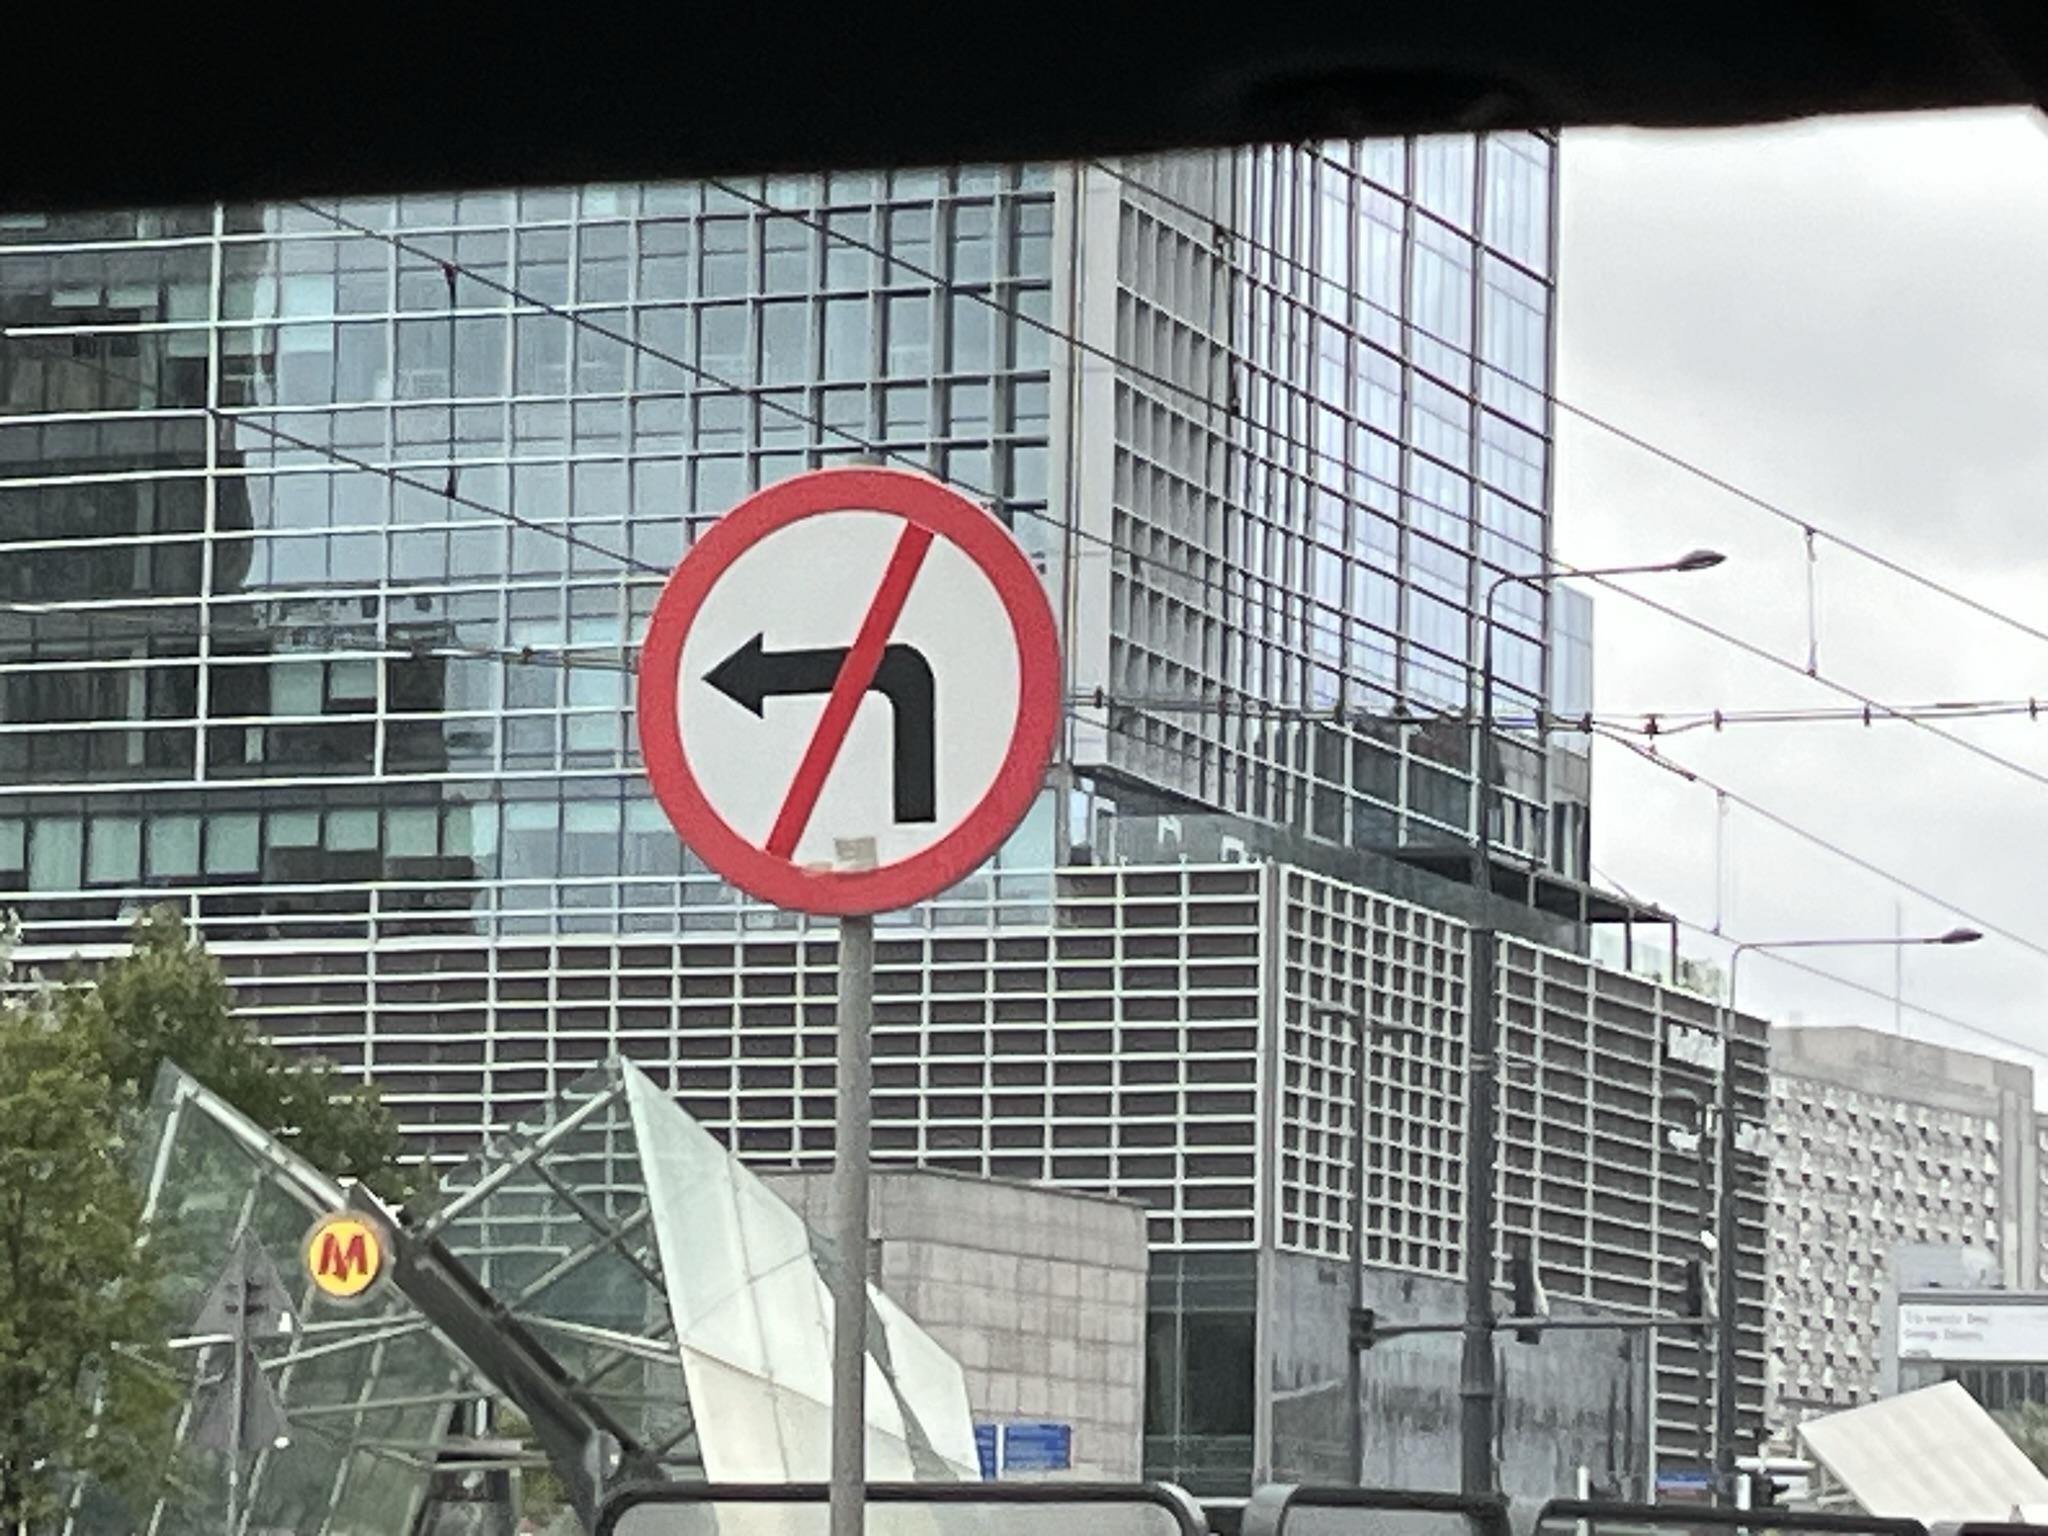prohibitory: (635, 466, 1068, 920)
